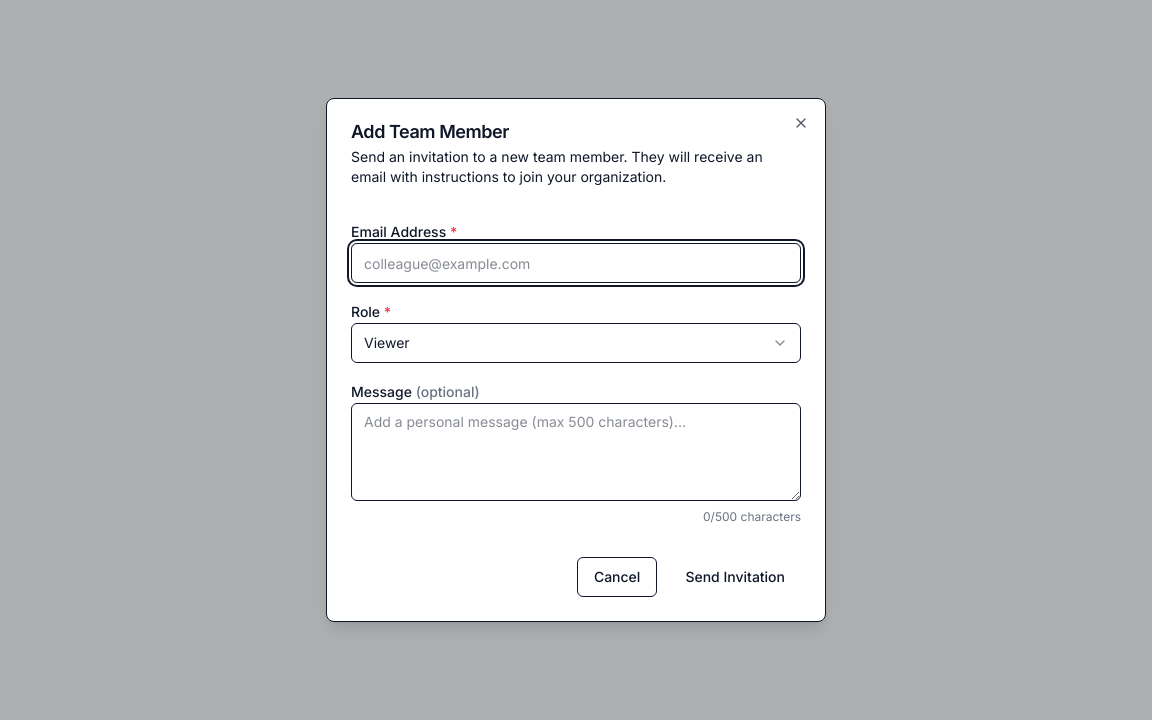
Test case: AddMemberDialog Component › Error States › should show inline error for duplicate email
The image size is (1152, 720).
Type "duplicate@example.com" into the field labelled "Email Address *" at {"x": 576, "y": 263}, box [351, 243, 801, 283]
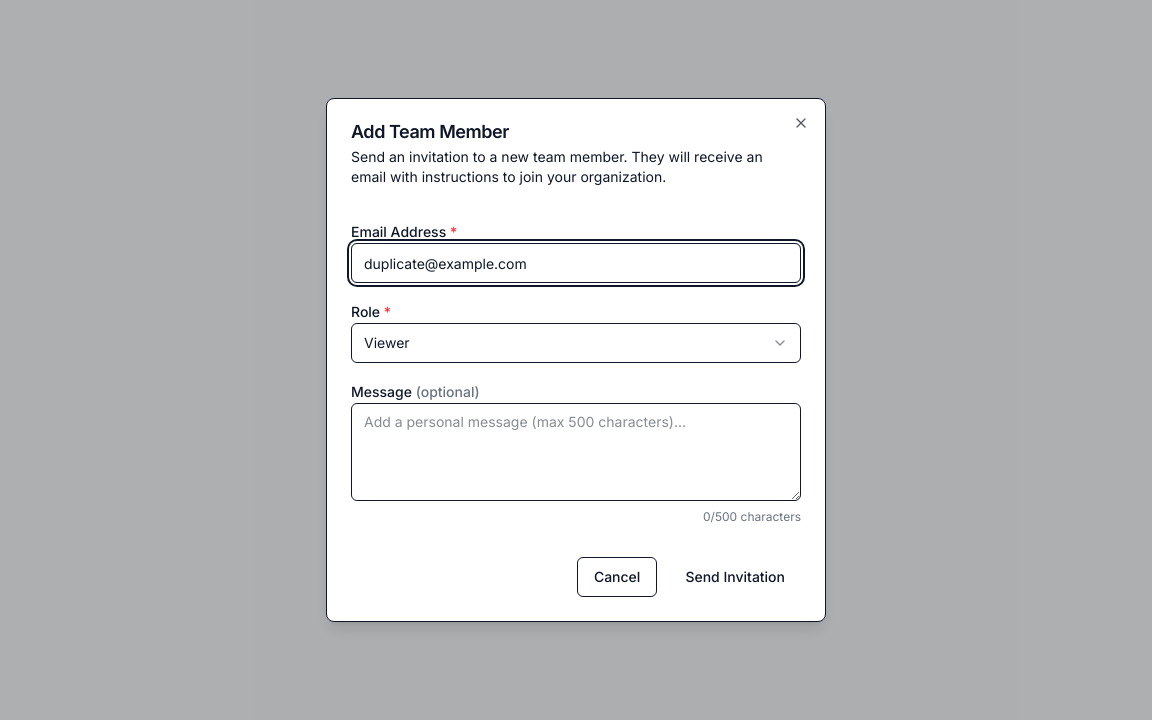
Click the button "Send Invitation" at {"x": 735, "y": 577}, box [669, 557, 801, 597]
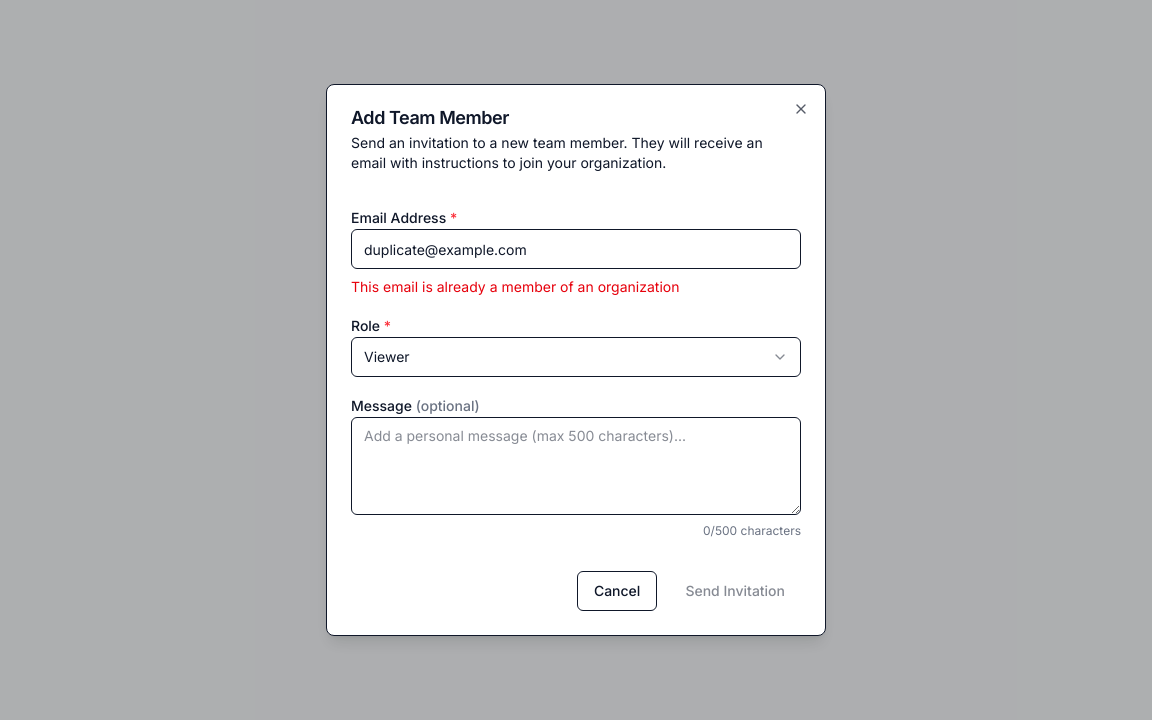
Result: the text "This email is already a member of an organization" is shown at [351, 278, 680, 295]
